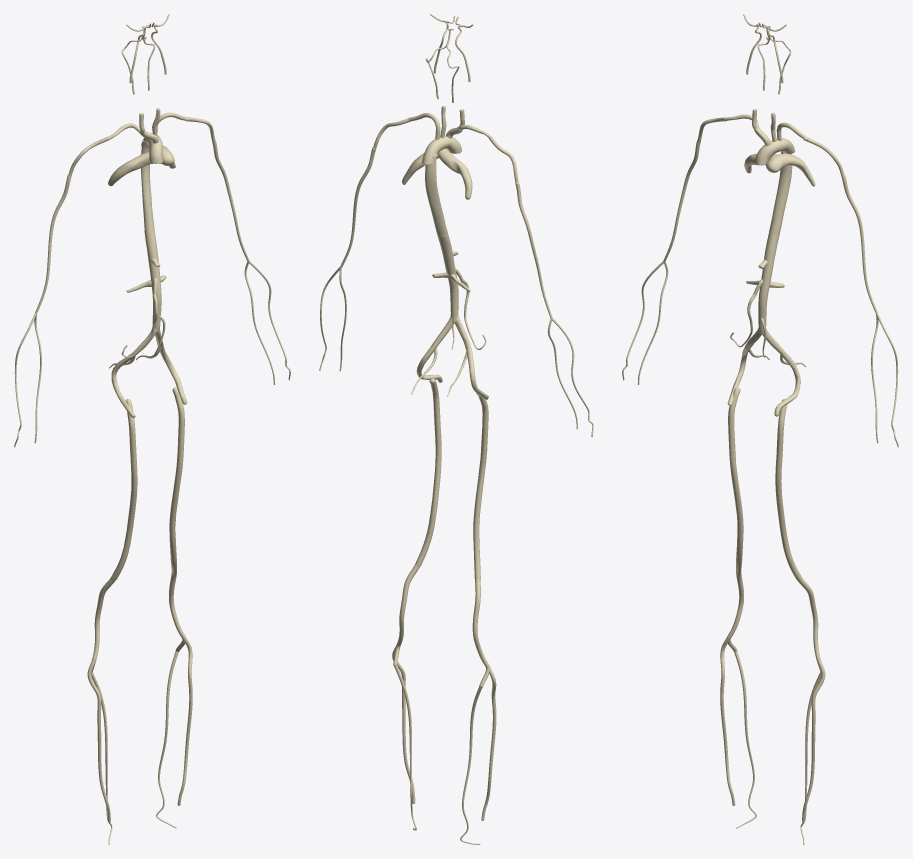
File: bodyparts3d-arterial-major.glb
The picture shows the model from 3 angles, left to right: view 1: azimuth 30°, elevation 25°; view 2: azimuth 150°, elevation 25°; view 3: azimuth 330°, elevation 25°; orthographic projection.
Parts seen in each view (by area): view 1: arterial-fma70250, arterial-fma70249, arterial-fma3789, arterial-fma87217, arterial-fma43896, arterial-fma43897, arterial-fma43899, arterial-fma50872, arterial-fma22691; view 2: arterial-fma70250, arterial-fma70249, arterial-fma87217, arterial-fma3789, arterial-fma43896, arterial-fma50872, arterial-fma77380, arterial-fma3768, arterial-fma77381, arterial-fma43897, arterial-fma22691; view 3: arterial-fma70250, arterial-fma70249, arterial-fma3789, arterial-fma87217, arterial-fma43897, arterial-fma43896, arterial-fma50873, arterial-fma3768, arterial-fma43898, arterial-fma22692.
Boxes of the visible parts, bbox=[...] form: arterial-fma70250: bbox=[169, 387, 184, 566]; arterial-fma70249: bbox=[111, 399, 137, 580]; arterial-fma3789: bbox=[144, 229, 161, 333]; arterial-fma87217: bbox=[141, 140, 154, 231]; arterial-fma43896: bbox=[87, 660, 110, 822]; arterial-fma43897: bbox=[177, 637, 192, 805]; arterial-fma43899: bbox=[156, 651, 178, 828]; arterial-fma50872: bbox=[108, 149, 164, 186]; arterial-fma22691: bbox=[35, 174, 70, 313]; arterial-fma70250: bbox=[415, 378, 441, 565]; arterial-fma70249: bbox=[473, 390, 488, 579]; arterial-fma87217: bbox=[425, 154, 447, 236]; arterial-fma3789: bbox=[437, 234, 458, 322]; arterial-fma43896: bbox=[481, 666, 496, 820]; arterial-fma50872: bbox=[438, 148, 472, 199]; arterial-fma77380: bbox=[472, 579, 489, 687]; arterial-fma3768: bbox=[422, 135, 461, 164]; arterial-fma77381: bbox=[393, 563, 420, 666]; arterial-fma43897: bbox=[392, 645, 415, 803]; arterial-fma22691: bbox=[515, 182, 552, 318]; arterial-fma70250: bbox=[775, 399, 801, 580]; arterial-fma70249: bbox=[728, 387, 743, 566]; arterial-fma3789: bbox=[758, 232, 779, 334]; arterial-fma87217: bbox=[769, 151, 792, 234]; arterial-fma43897: bbox=[802, 660, 825, 822]; arterial-fma43896: bbox=[720, 637, 735, 805]; arterial-fma50873: bbox=[766, 153, 815, 186]; arterial-fma3768: bbox=[755, 138, 795, 165]; arterial-fma43898: bbox=[734, 651, 756, 828]; arterial-fma22692: bbox=[842, 174, 877, 313].
Bounding box in the file's own units: 0.559 × 1.59 × 0.1412.
